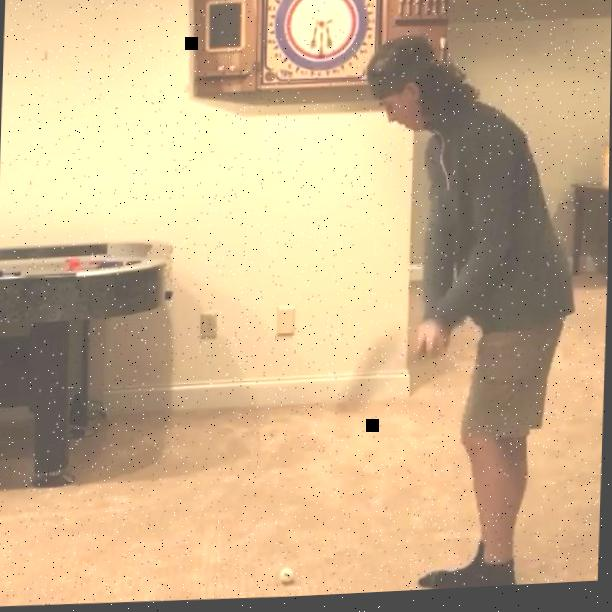GolfBall: (281, 571, 296, 585)
